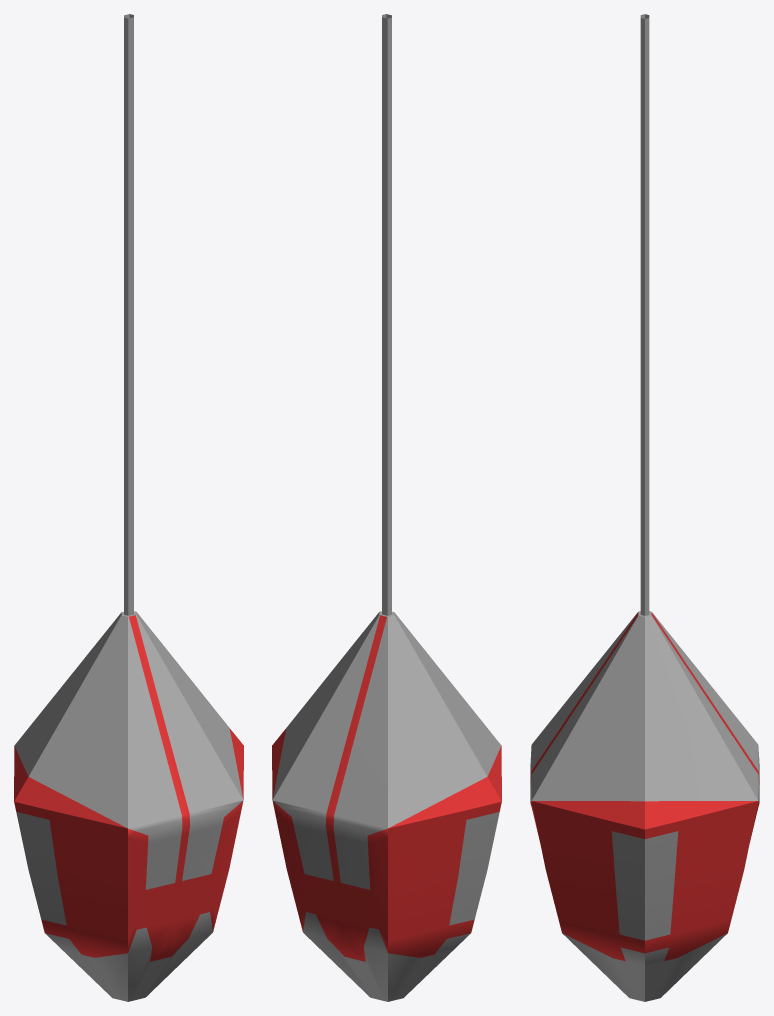
Rendered from SM_Lantern_01.fbx.
3 renders of one model, left to right at view 1: azimuth 30°, elevation 25°; view 2: azimuth 150°, elevation 25°; view 3: azimuth 270°, elevation 25°, orthographic.
Parts seen in each view (by area): view 1: SM_Lantern_01; view 2: SM_Lantern_01; view 3: SM_Lantern_01.
Part boxes in pixels (left/top/right/bottom): SM_Lantern_01: left=14, top=14, right=243, bottom=1001; SM_Lantern_01: left=272, top=14, right=501, bottom=1001; SM_Lantern_01: left=530, top=14, right=759, bottom=1001.
Size of the model in its own units: 66.65 by 271 by 57.61.
